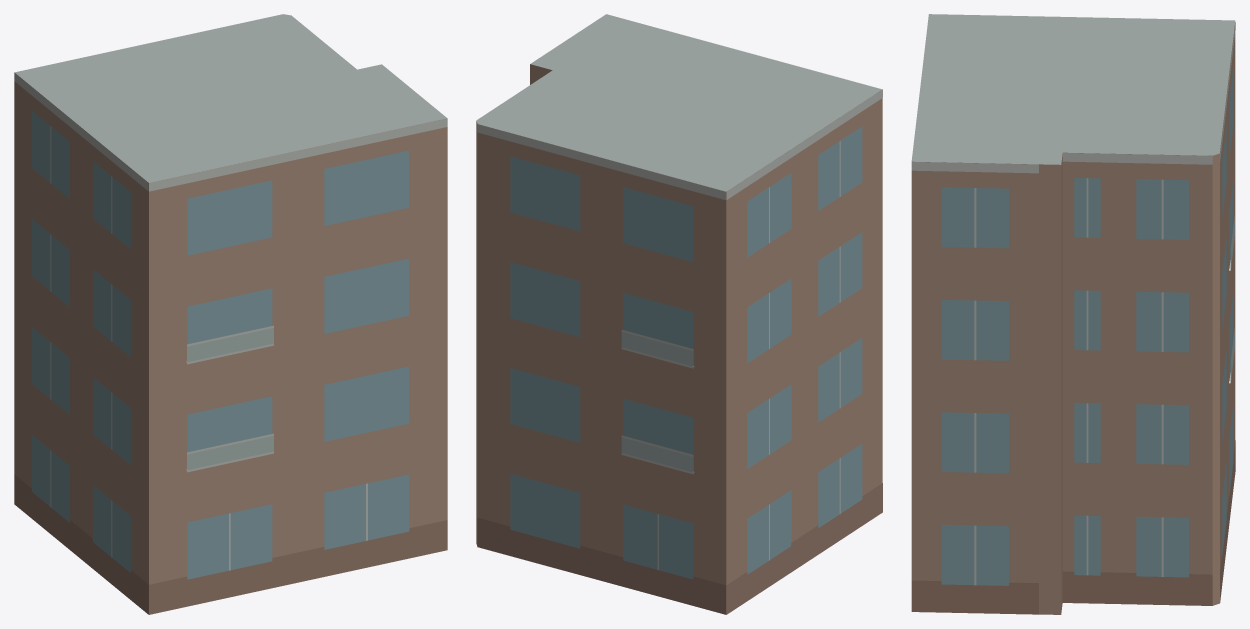
Rendered from survey-upis-32974478.glb.
3 renders of one model, left to right at view 1: azimuth 30°, elevation 25°; view 2: azimuth 150°, elevation 25°; view 3: azimuth 270°, elevation 25°, orthographic. The views are drawn at different scales.
Visible parts, largest first — view 1: survey-upis-32974478.tmp; view 2: survey-upis-32974478.tmp; view 3: survey-upis-32974478.tmp.
Boxes of the visible parts, box(x1,y1,x2,y2) form: survey-upis-32974478.tmp: box(14, 14, 447, 614); survey-upis-32974478.tmp: box(476, 14, 882, 614); survey-upis-32974478.tmp: box(911, 14, 1235, 614).
Size of the model in its own units: 8.77 by 12.2 by 7.97.
